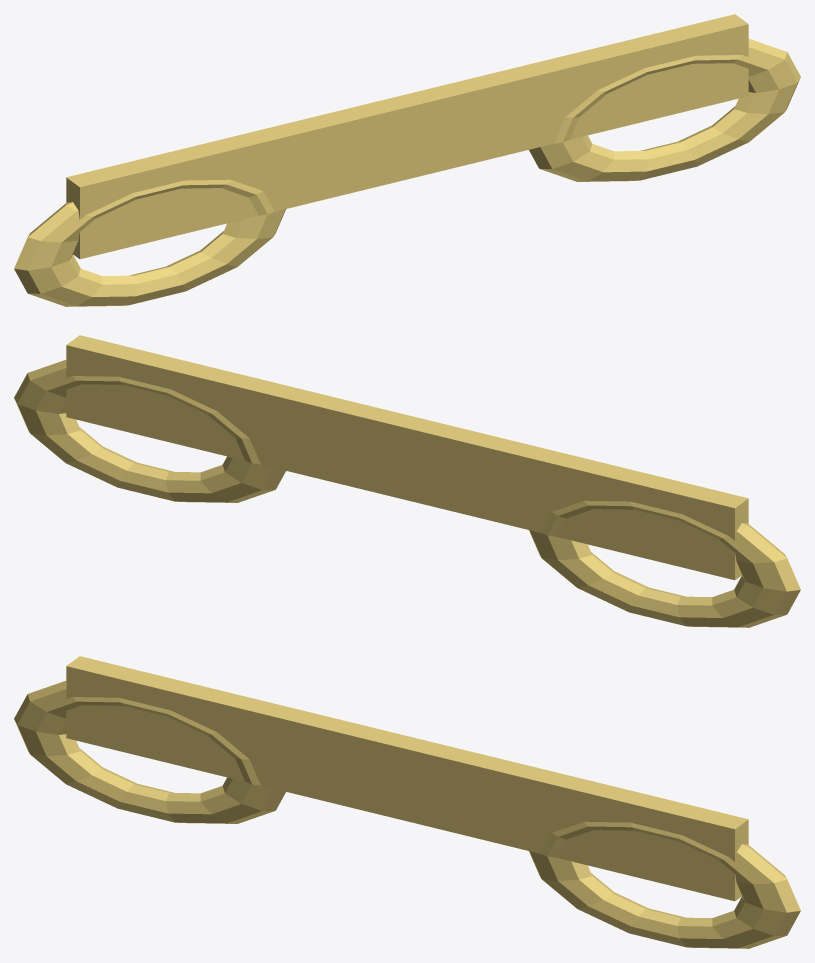
File: buckle_01.glb
The picture shows the model from 3 angles, top to bottom: view 1: azimuth 30°, elevation 25°; view 2: azimuth 150°, elevation 25°; view 3: azimuth 330°, elevation 25°; orthographic projection.
Parts seen in each view (by area): view 1: BuckleExport; view 2: BuckleExport; view 3: BuckleExport.
Part boxes in pixels (bbox=[...]): BuckleExport: bbox=[14, 14, 800, 306]; BuckleExport: bbox=[14, 335, 800, 627]; BuckleExport: bbox=[14, 656, 800, 948].
Size of the model in its own units: 0.08 by 0.0131 by 0.0027.
